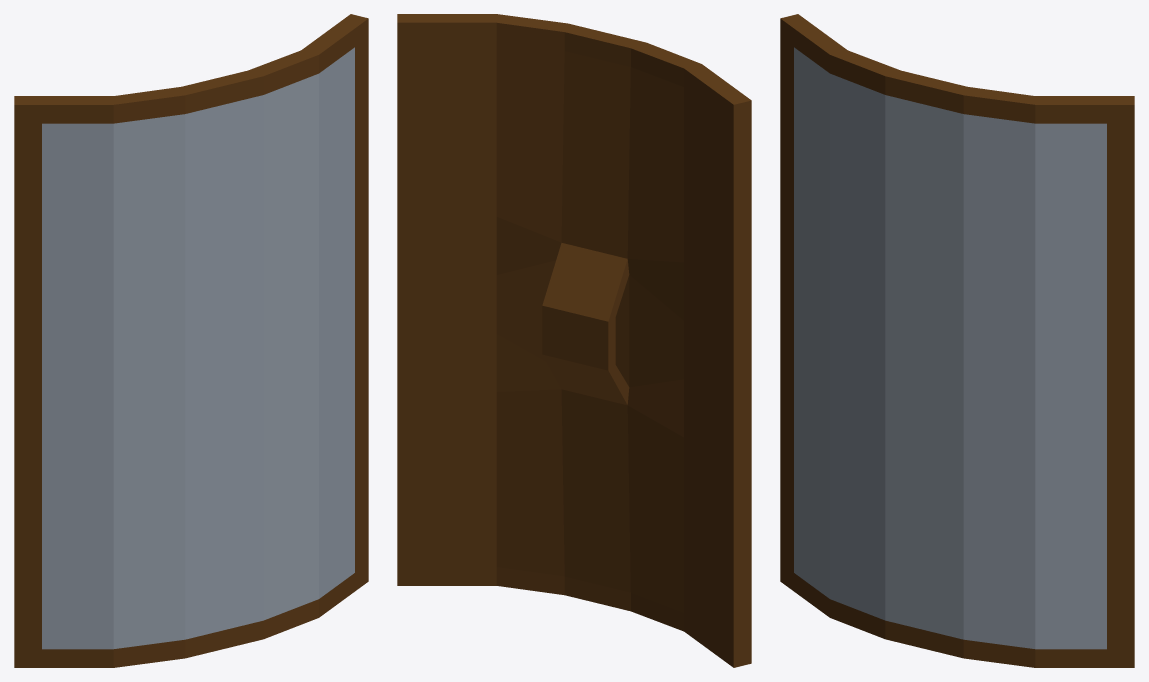
Rendered from SteelSquareShield.glb.
The picture shows the model from 3 angles, left to right: view 1: azimuth 30°, elevation 25°; view 2: azimuth 150°, elevation 25°; view 3: azimuth 330°, elevation 25°; orthographic projection.
Visible parts, largest first — view 1: SqShield; view 2: SqShield; view 3: SqShield.
Boxes of the visible parts, x1=… form: SqShield: x1=14, y1=14, x2=368, y2=667; SqShield: x1=397, y1=14, x2=751, y2=667; SqShield: x1=780, y1=14, x2=1134, y2=667.
Bounding box in the file's own units: 0.3953 × 0.6 × 0.0811.
